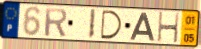6: (21, 5, 42, 38)
A: (128, 12, 156, 42)
D: (100, 9, 124, 41)
H: (156, 11, 180, 44)
I: (87, 8, 97, 41)
R: (43, 7, 68, 38)
